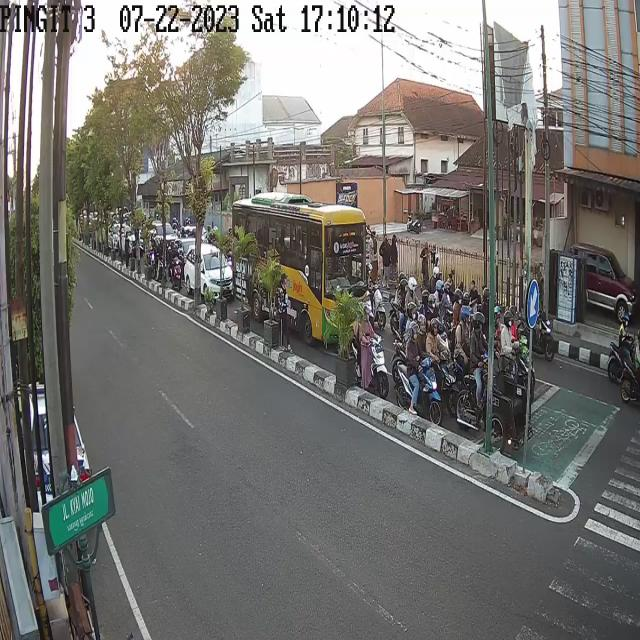bus: (233, 192, 366, 349)
car: (575, 244, 634, 324), (183, 244, 234, 300), (148, 217, 178, 249), (118, 226, 145, 260)
motorcycle: (397, 322, 442, 422), (420, 314, 460, 414), (351, 301, 389, 398), (606, 316, 634, 378), (621, 325, 640, 406), (365, 262, 386, 325), (168, 242, 181, 289), (156, 237, 166, 280)
